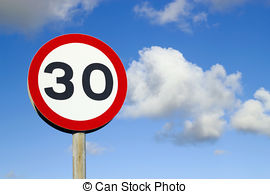Speed_limit_30km: (28, 32, 128, 131)
